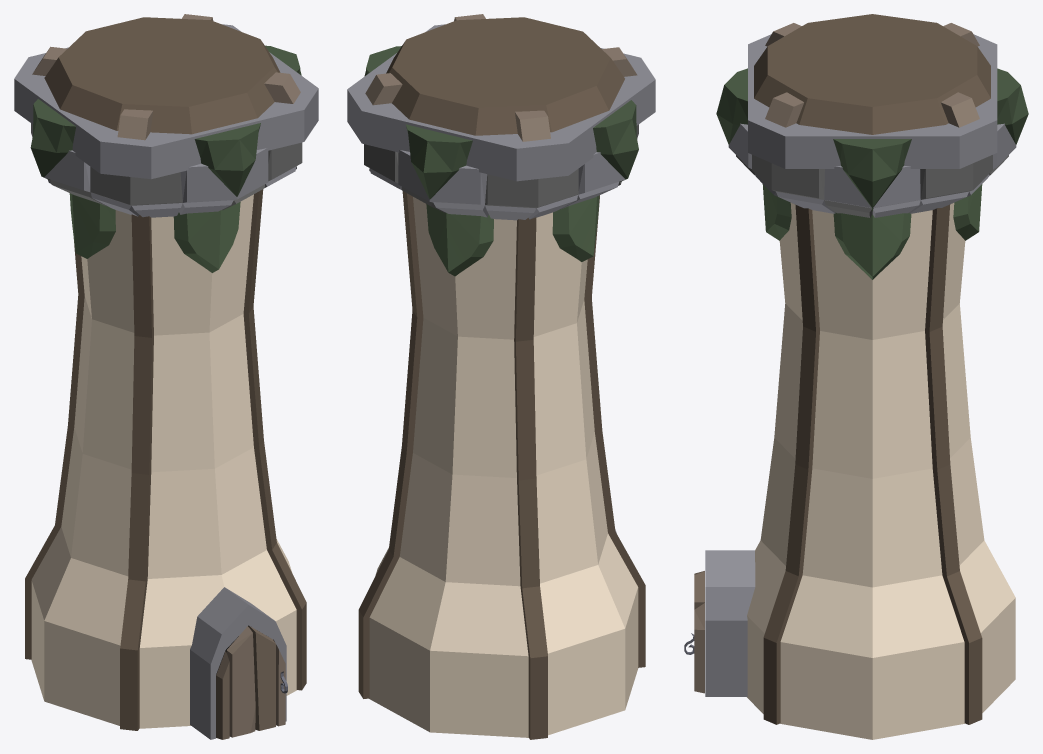
Rendered from Ballista_tower_LVL_1_Body.fbx.
3 renders of one model, left to right at view 1: azimuth 30°, elevation 25°; view 2: azimuth 150°, elevation 25°; view 3: azimuth 270°, elevation 25°, orthographic.
Visible parts, largest first — view 1: Ballista_tower_LVL_1; view 2: Ballista_tower_LVL_1; view 3: Ballista_tower_LVL_1.
Boxes of the visible parts, box(x1,y1,x2,y2) form: Ballista_tower_LVL_1: box(14, 14, 318, 739); Ballista_tower_LVL_1: box(347, 14, 655, 739); Ballista_tower_LVL_1: box(684, 14, 1028, 739).
Size of the model in its own units: 547 by 1169 by 590.
